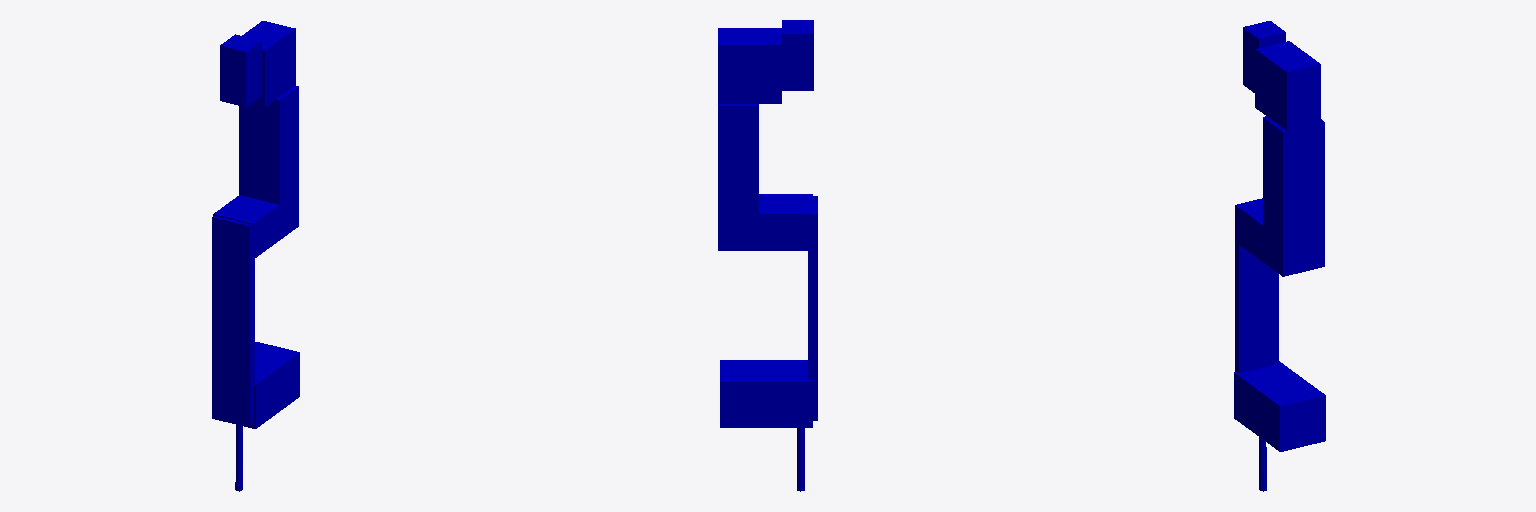
robot.urdf — robot:
<?xml version="1.0" ?>
<!-- =================================================================================== -->
<!-- |    This document was autogenerated by xacro from robotino.urdf.xacro            | -->
<!-- |    EDITING THIS FILE BY HAND IS NOT RECOMMENDED                                 | -->
<!-- =================================================================================== -->
<robot name="robot" xmlns:xacro="http://wiki.ros.org/xacro">
  <!-- ****************** -->
  <!-- ***** COMMON ***** -->
  <!-- ****************** -->
  <!-- camera mount positions | handeye calibration | relative to base_link -->
  <!-- hokuyo mount positions | relative to base_link -->
  <!-- tilt mount positions | handeye calibration | relative to base_link -->
  <!-- arm mount positions | handeye calibration | relative to base_link -->
  <!-- arm calibration-->
  <!-- kinect mount positions | handeye calibration | relative to tilt_link -->
  <!-- anglebracketusb mount positions | handeye calibration | relative to base_link -->
  <!--gazebo>
    <plugin name="gazebo_ros_control" filename="libgazebo_ros_control.so">
      <robotNamespace>/robotino</robotNamespace>
    </plugin>
  </gazebo-->
  <!-- WHEEL -->
  <!-- Wheel transmission   -->
  <!--GAZEBO PLUGIN-->
  <!-- GAZEBO OPENNI PLUGIN -->
  <!--<link name="${name}_footprint"/>
   
   <joint name="${name}_footprint_joint" type="fixed">
      <origin xyz="0 0 0" rpy="0 0 0" />
      <child link="${name}_link" />
      <parent link="${name}_footprint"/>
   </joint> -->
  <link name="base_link">
    <inertial>
      <mass value="20"/>
      <origin xyz="0 0 0"/>
      <inertia ixx="75.0" ixy="0.0" ixz="0.0" iyy="75.0" iyz="0.0" izz="75.0"/>
    </inertial>
    <visual>
      <origin rpy="0 0 0" xyz="0.01 0 0"/>
      <geometry>
        <mesh filename="package://robotino_description/meshes/RobotinoBody.dae"/>
      </geometry>
    </visual>
    <collision>
      <origin rpy="0 0 0" xyz="0.01 0 0"/>
      <geometry>
        <mesh filename="package://robotino_description/meshes/RobotinoBody.stl"/>
      </geometry>
    </collision>
  </link>
  <gazebo reference="base_link">
    <material>Gazebo/Grey</material>
    <gravity>true</gravity>
    <self_collide>false</self_collide>
    <sensor name="base_contact_sensor" type="contact">
      <always_on>true</always_on>
      <update_rate>100.0</update_rate>
      <contact>
        <collision>base_link_collision</collision>
        <topic>base_bumper</topic>
      </contact>
      <plugin filename="libgazebo_ros_bumper.so" name="base_gazebo_ros_bumper_controller">
        <frameName>world</frameName>
        <bumperTopicName>base_bumper</bumperTopicName>
      </plugin>
    </sensor>
  </gazebo>
  <!--gazebo>
      <plugin name="p3d_base_controller" filename="libgazebo_ros_p3d.so">
        <alwaysOn>true</alwaysOn>
        <updateRate>100.0</updateRate>
        <bodyName>${name}_link</bodyName>
        <topicName>${name}_pose_ground_truth</topicName>
        <frameName>map</frameName>
        <xyzOffsets>25.7 25.7 0</xyzOffsets-->
  <!-- initialize odometry for fake localization-->
  <!--rpyOffsets>0 0 0</rpyOffsets>
        <gaussianNoise>0.01</gaussianNoise>
      </plugin>
      <canonicalBody>${name}_footprint</canonicalBody>
    </gazebo-->
  <!-- position controller -->
  <gazebo>
    <plugin filename="libgazebo_ros_planar_move.so" name="base_controller">
      <commandTopic>cmd_vel</commandTopic>
      <odometryTopic>odom</odometryTopic>
      <odometryFrame>odom</odometryFrame>
      <odometryRate>20.0</odometryRate>
      <robotBaseFrame>base_link</robotBaseFrame>
    </plugin>
  </gazebo>
  <joint name="wheel0_joint" type="continuous">
    <parent link="base_link"/>
    <child link="wheel0_link"/>
    <origin rpy="0 0 1.04719666667" xyz="0.095 0.14 0.02"/>
    <axis xyz="-1 0 0"/>
  </joint>
  <link name="wheel0_link">
    <inertial>
      <mass value="0.4"/>
      <origin xyz="0 0 0"/>
      <inertia ixx="0.012411765597" ixy="-0.000711733678" ixz="0.00050272983" iyy="0.015218160428" iyz="-0.000004273467" izz="0.011763977943"/>
    </inertial>
    <visual>
      <origin rpy="0 0 0" xyz="0 0 0"/>
      <geometry>
        <!--cylinder length="0.04" radius="0.04"/-->
        <mesh filename="package://robotino_description/meshes/RobotinoWheel.dae" scale="0.01 0.01 0.01"/>
      </geometry>
    </visual>
    <collision>
      <origin rpy="0 1.570795 0" xyz="0 0 0"/>
      <geometry>
        <!--mesh filename="package://robotino_description/meshes/RobotinoWheel.dae" scale="${M_SCALE} ${M_SCALE} ${M_SCALE}"/-->
        <cylinder length="0.04" radius="0.04"/>
      </geometry>
    </collision>
  </link>
  <transmission name="wheel0_trans">
    <type>transmission_interface/SimpleTransmission</type>
    <joint name="wheel0_joint">
      <hardwareInterface>VelocityJointInterface</hardwareInterface>
    </joint>
    <actuator name="wheel0_motor">
      <hardwareInterface>VelocityJointInterface</hardwareInterface>
      <mechanicalReduction>79.2380952381</mechanicalReduction>
    </actuator>
  </transmission>
  <gazebo reference="wheel0_link">
    <mu1 value="0.0"/>
    <!-- 100 -->
    <mu2 value="0.0"/>
    <!-- 100 , http://ode-wiki.org/wiki/index.php?title=FAQ-->
    <kp value="1000000.0"/>
    <kd value="1.0"/>
    <!--fdir1>0 1 0</fdir1>
      <maxContacts>1</maxContacts-->
  </gazebo>
  <joint name="wheel1_joint" type="continuous">
    <parent link="base_link"/>
    <child link="wheel1_link"/>
    <origin rpy="0 0 0" xyz="-0.16 0 0.02"/>
    <axis xyz="1 0 0"/>
  </joint>
  <link name="wheel1_link">
    <inertial>
      <mass value="0.4"/>
      <origin xyz="0 0 0"/>
      <inertia ixx="0.012411765597" ixy="-0.000711733678" ixz="0.00050272983" iyy="0.015218160428" iyz="-0.000004273467" izz="0.011763977943"/>
    </inertial>
    <visual>
      <origin rpy="0 0 0" xyz="0 0 0"/>
      <geometry>
        <!--cylinder length="0.04" radius="0.04"/-->
        <mesh filename="package://robotino_description/meshes/RobotinoWheel.dae" scale="0.01 0.01 0.01"/>
      </geometry>
    </visual>
    <collision>
      <origin rpy="0 1.570795 0" xyz="0 0 0"/>
      <geometry>
        <!--mesh filename="package://robotino_description/meshes/RobotinoWheel.dae" scale="${M_SCALE} ${M_SCALE} ${M_SCALE}"/-->
        <cylinder length="0.04" radius="0.04"/>
      </geometry>
    </collision>
  </link>
  <transmission name="wheel1_trans">
    <type>transmission_interface/SimpleTransmission</type>
    <joint name="wheel1_joint">
      <hardwareInterface>VelocityJointInterface</hardwareInterface>
    </joint>
    <actuator name="wheel1_motor">
      <hardwareInterface>VelocityJointInterface</hardwareInterface>
      <mechanicalReduction>79.2380952381</mechanicalReduction>
    </actuator>
  </transmission>
  <gazebo reference="wheel1_link">
    <mu1 value="0.0"/>
    <!-- 100 -->
    <mu2 value="0.0"/>
    <!-- 100 , http://ode-wiki.org/wiki/index.php?title=FAQ-->
    <kp value="1000000.0"/>
    <kd value="1.0"/>
    <!--fdir1>0 1 0</fdir1>
      <maxContacts>1</maxContacts-->
  </gazebo>
  <joint name="wheel2_joint" type="continuous">
    <parent link="base_link"/>
    <child link="wheel2_link"/>
    <origin rpy="0 0 -1.04719666667" xyz="0.105 -0.15 0.02"/>
    <axis xyz="-1 0 0"/>
  </joint>
  <link name="wheel2_link">
    <inertial>
      <mass value="0.4"/>
      <origin xyz="0 0 0"/>
      <inertia ixx="0.012411765597" ixy="-0.000711733678" ixz="0.00050272983" iyy="0.015218160428" iyz="-0.000004273467" izz="0.011763977943"/>
    </inertial>
    <visual>
      <origin rpy="0 0 0" xyz="0 0 0"/>
      <geometry>
        <!--cylinder length="0.04" radius="0.04"/-->
        <mesh filename="package://robotino_description/meshes/RobotinoWheel.dae" scale="0.01 0.01 0.01"/>
      </geometry>
    </visual>
    <collision>
      <origin rpy="0 1.570795 0" xyz="0 0 0"/>
      <geometry>
        <!--mesh filename="package://robotino_description/meshes/RobotinoWheel.dae" scale="${M_SCALE} ${M_SCALE} ${M_SCALE}"/-->
        <cylinder length="0.04" radius="0.04"/>
      </geometry>
    </collision>
  </link>
  <transmission name="wheel2_trans">
    <type>transmission_interface/SimpleTransmission</type>
    <joint name="wheel2_joint">
      <hardwareInterface>VelocityJointInterface</hardwareInterface>
    </joint>
    <actuator name="wheel2_motor">
      <hardwareInterface>VelocityJointInterface</hardwareInterface>
      <mechanicalReduction>79.2380952381</mechanicalReduction>
    </actuator>
  </transmission>
  <gazebo reference="wheel2_link">
    <mu1 value="0.0"/>
    <!-- 100 -->
    <mu2 value="0.0"/>
    <!-- 100 , http://ode-wiki.org/wiki/index.php?title=FAQ-->
    <kp value="1000000.0"/>
    <kd value="1.0"/>
    <!--fdir1>0 1 0</fdir1>
      <maxContacts>1</maxContacts-->
  </gazebo>
  <gazebo>
    <plugin filename="libhwi_switch_gazebo_ros_control.so" name="ros_control">
      <robotNamespace>base_controller</robotNamespace>
      <filterJointsParam>joint_names</filterJointsParam>
    </plugin>
  </gazebo>
  <joint name="hokuyo_joint" type="fixed">
    <origin rpy="0.0 0.0 0.0" xyz="0.064 0.0 0.22"/>
    <parent link="base_link"/>
    <child link="hokuyo_link"/>
  </joint>
  <link name="hokuyo_link">
    <inertial>
      <mass value="0.00001"/>
      <origin xyz="0 0 0"/>
      <inertia ixx="1.0" ixy="0.0" ixz="0.0" iyy="1.0" iyz="0.0" izz="1.0"/>
    </inertial>
    <visual>
      <origin rpy="0 0 1.570795" xyz="0 0 -0.05"/>
      <geometry>
        <mesh filename="package://robotino_description/meshes/RobotinoLaserScanner.dae" scale="0.01 0.01 0.01"/>
      </geometry>
    </visual>
    <collision>
      <origin rpy="0 0 0" xyz="0 0 0.035"/>
      <geometry>
        <cylinder length="0.07" radius="0.02"/>
      </geometry>
    </collision>
  </link>
  <!-- gazebo extensions -->
  <gazebo reference="hokuyo_link">
    <sensor name="hokuyo" type="ray">
      <always_on>true</always_on>
      <update_rate>10</update_rate>
      <pose>0 0 0 0 0 0</pose>
      <visualize>false</visualize>
      <ray>
        <scan>
          <horizontal>
            <samples>640</samples>
            <resolution>1.0</resolution>
            <min_angle>-2.2689</min_angle>
            <max_angle>2.2689</max_angle>
          </horizontal>
        </scan>
        <range>
          <min>0.05</min>
          <max>10.0</max>
          <resolution>0.01</resolution>
        </range>
        <noise>
          <type>gaussian</type>
          <mean>0.0</mean>
          <stddev>0.005</stddev>
        </noise>
      </ray>
      <plugin filename="libgazebo_ros_laser.so" name="gazebo_ros_hokuyo_controller">
        <topicName>scan</topicName>
        <frameName>hokuyo_link</frameName>
      </plugin>
    </sensor>
    <material>Gazebo/White</material>
  </gazebo>
  <joint name="fixed_base_link_base" type="fixed">
    <parent link="base_link"/>
    <child link="base"/>
    <origin rpy="0 0 -1.0471975511965976" xyz="0.0 0.0 0.185"/>
  </joint>
  <link name="base">
    <inertial>
      <mass value="0.01"/>
      <origin xyz="0 0 0"/>
      <inertia ixx="0.001" ixy="0.0" ixz="0.0" iyy="0.001" iyz="0.0" izz="0.001"/>
    </inertial>
    <visual>
      <geometry>
        <cylinder length="0.105" radius="0.005"/>
      </geometry>
      <material name="blue">
        <color rgba="0 0 .8 1"/>
      </material>
      <origin rpy="0 0.01 0.01" xyz="0 0 0.0525"/>
    </visual>
  </link>
  <joint name="fixed_base_motor1" type="fixed">
    <parent link="base"/>
    <child link="motor1"/>
    <origin rpy="0 0 0" xyz="0.0 -0.01591 0.140"/>
  </joint>
  <link name="motor1">
    <inertial>
      <mass value="0.01"/>
      <origin xyz="0 0 0"/>
      <inertia ixx="0.001" ixy="0.0" ixz="0.0" iyy="0.001" iyz="0.0" izz="0.001"/>
    </inertial>
    <visual>
      <geometry>
        <box size="0.07 0.123 0.067"/>
      </geometry>
      <material name="blue">
        <color rgba="0 0 .8 1"/>
      </material>
      <origin rpy="0 0 0" xyz="0 0.0615 0."/>
    </visual>
  </link>
  <joint name="joint1" type="revolute">
    <parent link="motor1"/>
    <child link="link1"/>
    <origin rpy="0 0 0" xyz="0.0 0.0 0."/>
    <axis xyz="0 1 0"/>
    <limit effort="400" lower="-1.8325957145940461" upper="1.8325957145940461" velocity="30"/>
  </joint>
  <link name="link1">
    <inertial>
      <mass value="0.01"/>
      <origin xyz="0 0 0"/>
      <inertia ixx="0.001" ixy="0.0" ixz="0.0" iyy="0.001" iyz="0.0" izz="0.001"/>
    </inertial>
    <visual>
      <geometry>
        <box size="0.06 0.012 0.3"/>
      </geometry>
      <material name="blue"/>
      <origin rpy="0 0 0" xyz="0 0. 0.125"/>
    </visual>
  </link>
  <gazebo reference="link1">
    <material>Gazebo/Black</material>
  </gazebo>
  <joint name="joint2" type="revolute">
    <parent link="link1"/>
    <child link="motor2"/>
    <origin rpy="0 0 0" xyz="0.0 0.0 0.250"/>
    <axis xyz="0 1 0"/>
    <limit effort="190" lower="-2.443460952792061" upper="2.443460952792061" velocity="30"/>
  </joint>
  <link name="motor2">
    <inertial>
      <mass value="0.01"/>
      <origin xyz="0 0 0"/>
      <inertia ixx="0.001" ixy="0.0" ixz="0.0" iyy="0.001" iyz="0.0" izz="0.001"/>
    </inertial>
    <visual>
      <geometry>
        <box size="0.064 0.125 0.054"/>
      </geometry>
      <material name="blue"/>
      <origin rpy="0 0 0" xyz="0 0.0625 0."/>
    </visual>
  </link>
  <joint name="fixed_motor2_link2" type="fixed">
    <parent link="motor2"/>
    <child link="link2"/>
    <origin rpy="0 0 0" xyz="0.0 0.098 0.027"/>
  </joint>
  <link name="link2">
    <inertial>
      <mass value="0.01"/>
      <origin xyz="0 0 0"/>
      <inertia ixx="0.001" ixy="0.0" ixz="0.0" iyy="0.001" iyz="0.0" izz="0.001"/>
    </inertial>
    <visual>
      <geometry>
        <box size="0.064 0.054 0.158"/>
      </geometry>
      <material name="blue"/>
      <origin rpy="0 0 0" xyz="0.0 0.0 0.079"/>
    </visual>
  </link>
  <gazebo reference="link2">
    <material>Gazebo/Grey</material>
  </gazebo>
  <joint name="joint3" type="revolute">
    <parent link="link2"/>
    <child link="link3"/>
    <origin rpy="0 0 0" xyz="0.0 0.0 0.158"/>
    <axis xyz="0 0 1"/>
    <limit effort="190" lower="-3.141592653589793" upper="3.141592653589793" velocity="30"/>
  </joint>
  <link name="link3">
    <inertial>
      <mass value="0.01"/>
      <origin xyz="0 0 0"/>
      <inertia ixx="0.001" ixy="0.0" ixz="0.0" iyy="0.001" iyz="0.0" izz="0.001"/>
    </inertial>
    <visual>
      <geometry>
        <box size="0.052 0.084 0.086"/>
      </geometry>
      <material name="blue"/>
      <origin rpy="0 0 0" xyz="0 -0.015 0.043"/>
    </visual>
  </link>
  <gazebo reference="link3">
    <material>Gazebo/Black</material>
  </gazebo>
  <joint name="joint4" type="revolute">
    <parent link="link3"/>
    <child link="link4"/>
    <origin rpy="0 0 0" xyz="0.0 -0.057 0.065"/>
    <axis xyz="0 1 0"/>
    <limit effort="160" lower="-3.141592653589793" upper="3.141592653589793" velocity="30"/>
  </joint>
  <link name="link4">
    <inertial>
      <mass value="0.01"/>
      <origin xyz="0 0 0"/>
      <inertia ixx="0.001" ixy="0.0" ixz="0.0" iyy="0.001" iyz="0.0" izz="0.001"/>
    </inertial>
    <visual>
      <geometry>
        <box size="0.042 0.042 0.084"/>
      </geometry>
      <material name="blue"/>
      <origin rpy="0 0 0" xyz="0. -0.021 -0.007"/>
    </visual>
  </link>
  <gazebo reference="link4">
    <material>Gazebo/Grey</material>
  </gazebo>
  <joint name="joint5" type="revolute">
    <parent link="link4"/>
    <child link="link5"/>
    <origin rpy="0 0 0" xyz="0.0 -0.027 0.035"/>
    <axis xyz="0 0 1"/>
    <limit effort="160" lower="-3.141592653589793" upper="3.141592653589793" velocity="30"/>
  </joint>
  <link name="link5">
    <inertial>
      <mass value="0.01"/>
      <origin xyz="0 0 0"/>
      <inertia ixx="0.001" ixy="0.0" ixz="0.0" iyy="0.001" iyz="0.0" izz="0.001"/>
    </inertial>
  </link>
  <gazebo reference="link5">
    <material>Gazebo/Black</material>
  </gazebo>
  <transmission name="arm_1_trans">
    <type>transmission_interface/SimpleTransmission</type>
    <joint name="joint1">
      <hardwareInterface>PositionJointInterface</hardwareInterface>
      <hardwareInterface>VelocityJointInterface</hardwareInterface>
    </joint>
    <actuator name="arm_1_motor">
      <mechanicalReduction>1</mechanicalReduction>
    </actuator>
  </transmission>
  <transmission name="arm_2_trans">
    <type>transmission_interface/SimpleTransmission</type>
    <joint name="joint2">
      <hardwareInterface>PositionJointInterface</hardwareInterface>
      <hardwareInterface>VelocityJointInterface</hardwareInterface>
    </joint>
    <actuator name="arm_2_motor">
      <mechanicalReduction>1</mechanicalReduction>
    </actuator>
  </transmission>
  <transmission name="arm_3_trans">
    <type>transmission_interface/SimpleTransmission</type>
    <joint name="joint3">
      <hardwareInterface>PositionJointInterface</hardwareInterface>
      <hardwareInterface>VelocityJointInterface</hardwareInterface>
    </joint>
    <actuator name="arm_3_motor">
      <mechanicalReduction>1</mechanicalReduction>
    </actuator>
  </transmission>
  <transmission name="arm_4_trans">
    <type>transmission_interface/SimpleTransmission</type>
    <joint name="joint4">
      <hardwareInterface>PositionJointInterface</hardwareInterface>
      <hardwareInterface>VelocityJointInterface</hardwareInterface>
    </joint>
    <actuator name="arm_4_motor">
      <mechanicalReduction>1</mechanicalReduction>
    </actuator>
  </transmission>
  <transmission name="arm_5_trans">
    <type>transmission_interface/SimpleTransmission</type>
    <joint name="joint5">
      <hardwareInterface>PositionJointInterface</hardwareInterface>
      <hardwareInterface>VelocityJointInterface</hardwareInterface>
    </joint>
    <actuator name="arm_5_motor">
      <mechanicalReduction>1</mechanicalReduction>
    </actuator>
  </transmission>
  <transmission name="arm_6_trans">
    <type>transmission_interface/SimpleTransmission</type>
    <joint name="joint6">
      <hardwareInterface>PositionJointInterface</hardwareInterface>
      <hardwareInterface>VelocityJointInterface</hardwareInterface>
    </joint>
    <actuator name="arm_6_motor">
      <mechanicalReduction>1</mechanicalReduction>
    </actuator>
  </transmission>
  <transmission name="arm_7_trans">
    <type>transmission_interface/SimpleTransmission</type>
    <joint name="joint7">
      <hardwareInterface>PositionJointInterface</hardwareInterface>
      <hardwareInterface>VelocityJointInterface</hardwareInterface>
    </joint>
    <actuator name="arm_7_motor">
      <mechanicalReduction>1</mechanicalReduction>
    </actuator>
  </transmission>
  <gazebo>
    <plugin filename="libhwi_switch_gazebo_ros_control.so" name="ros_control">
      <robotNamespace>arm_controller</robotNamespace>
      <filterJointsParam>joint_names</filterJointsParam>
    </plugin>
  </gazebo>
</robot>

--- Render facts (derived) ---
3 views of the same robot in one strip: view 1: azimuth 30°, elevation 25°; view 2: azimuth 150°, elevation 25°; view 3: azimuth 270°, elevation 25° (orthographic).
Robot: robot — 13 links, 12 joints (5 revolute, 3 continuous, 4 fixed); root link base_link; default pose: all joints at 0.
Links seen in each view (by area): view 1: link1, link2, motor1, link3, link4, motor2; view 2: motor1, link3, motor2, link2, link4, link1; view 3: link2, motor1, link1, link3, motor2, link4.
Link boxes in pixels (left/top/right/bottom): link1: left=212, top=216, right=254, bottom=423; link2: left=239, top=85, right=298, bottom=204; motor1: left=212, top=342, right=299, bottom=428; link3: left=242, top=21, right=295, bottom=107; link4: left=220, top=34, right=261, bottom=107; motor2: left=213, top=191, right=298, bottom=258; motor1: left=720, top=360, right=812, bottom=427; link3: left=718, top=28, right=781, bottom=103; motor2: left=718, top=194, right=812, bottom=250; link2: left=718, top=104, right=758, bottom=213; link4: left=782, top=20, right=813, bottom=90; link1: left=808, top=196, right=817, bottom=420; link2: left=1263, top=116, right=1324, bottom=239; motor1: left=1234, top=361, right=1325, bottom=451; link1: left=1235, top=198, right=1278, bottom=372; link3: left=1255, top=41, right=1320, bottom=130; motor2: left=1236, top=199, right=1324, bottom=276; link4: left=1243, top=21, right=1285, bottom=92.
Size in the robot's own frame: 0.1444 by 0.1221 by 0.675 metres.
0 mesh visuals loaded from 3 distinct referenced files (none loaded); not drawn: 5 (reference not matched to a file when rendering).
